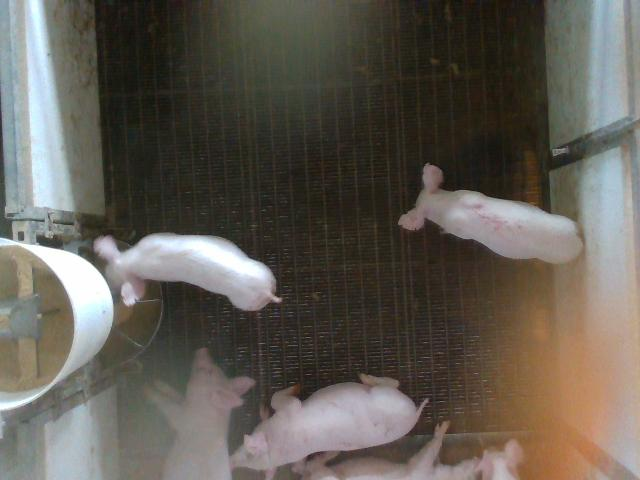pig-5: (399, 164, 582, 263)
